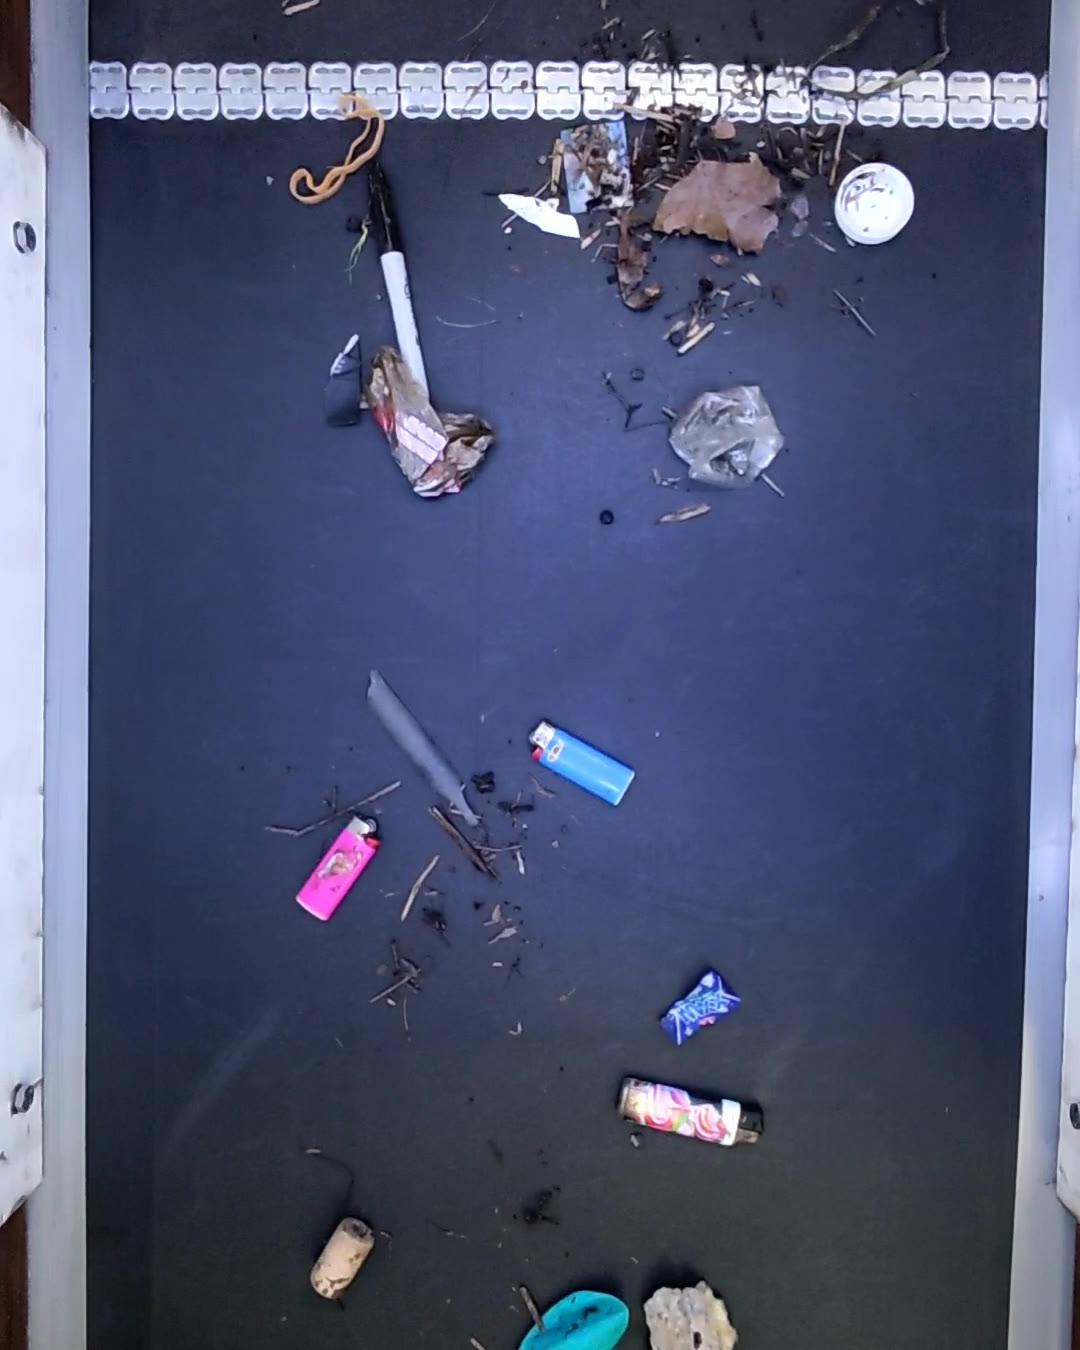Plastic folies of stukken daarvan 2.5- 50 cm: (322, 336, 498, 503), (666, 381, 785, 486)
Snoep snack en chips verpakkingen: (655, 974, 739, 1048)
